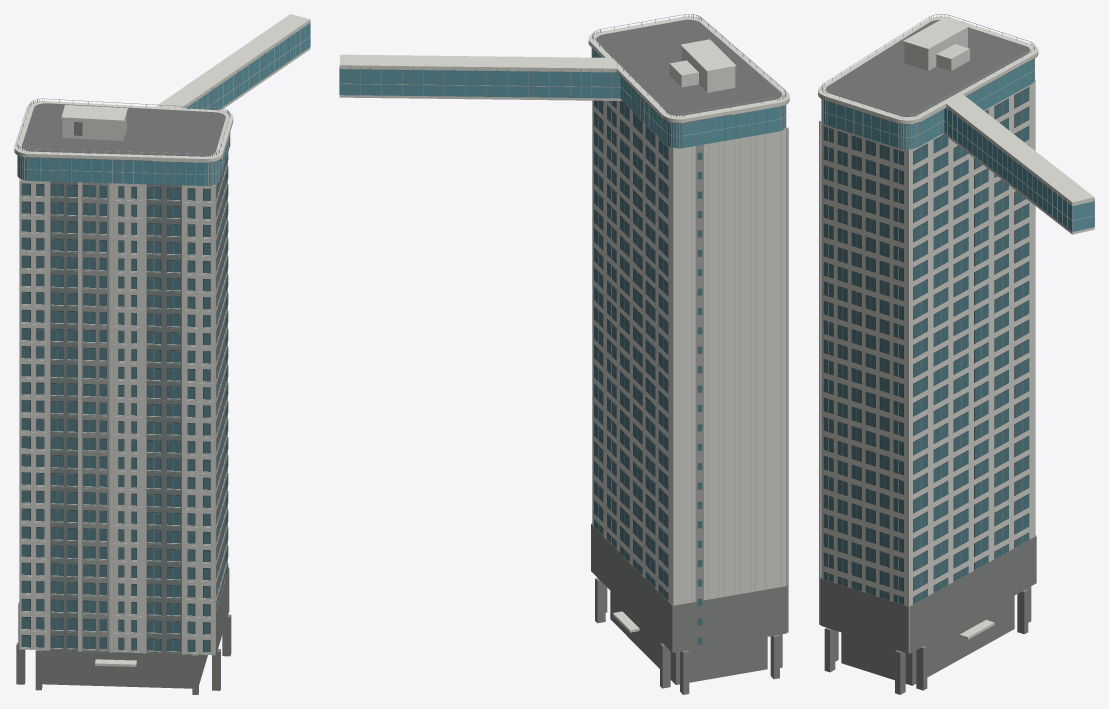
File: bespoke-maple-xi-210.glb
3 renders of one model, left to right at view 1: azimuth 30°, elevation 25°; view 2: azimuth 150°, elevation 25°; view 3: azimuth 270°, elevation 25°, orthographic. The views are drawn at different scales.
Parts seen in each view (by area): view 1: 210_retained_numbered_plan_body, 210_end_wall_slit_windows, 210_individual_face_3_graphite, 210_e1_large_grid_window_reveals, 210_Club_Cloud_glazed_roof_lounge, 210_recessed_stone_pilotis_lobby, 210_end_wall_recess_strips, 210_entrance_canopy_1, 210_inset_service_roof, 210_e1_fine_window_mullions; view 2: 210_retained_numbered_plan_body, 210_end_wall_slit_windows, 210_recessed_stone_pilotis_lobby, 210_Club_Cloud_glazed_roof_lounge, 210_entrance_canopy_1, 210_end_wall_recess_strips, 210_inset_service_roof, 210_e1_fine_window_mullions, 210_e1_large_grid_window_reveals; view 3: 210_retained_numbered_plan_body, 210_end_wall_slit_windows, 210_recessed_stone_pilotis_lobby, 210_e1_large_grid_window_reveals, 210_Club_Cloud_glazed_roof_lounge, 210_entrance_canopy_1, 210_inset_service_roof, 210_e1_fine_window_mullions.
Boxes of the visible parts, left/top/right/bottom form: 210_retained_numbered_plan_body: left=19, top=112, right=227, bottom=655; 210_end_wall_slit_windows: left=22, top=152, right=228, bottom=652; 210_individual_face_3_graphite: left=14, top=122, right=221, bottom=654; 210_e1_large_grid_window_reveals: left=21, top=158, right=227, bottom=652; 210_Club_Cloud_glazed_roof_lounge: left=18, top=23, right=310, bottom=185; 210_recessed_stone_pilotis_lobby: left=16, top=567, right=231, bottom=694; 210_end_wall_recess_strips: left=81, top=182, right=109, bottom=651; 210_entrance_canopy_1: left=14, top=14, right=310, bottom=666; 210_inset_service_roof: left=22, top=103, right=225, bottom=156; 210_e1_fine_window_mullions: left=17, top=21, right=310, bottom=651; 210_retained_numbered_plan_body: left=592, top=47, right=788, bottom=652; 210_end_wall_slit_windows: left=594, top=100, right=702, bottom=644; 210_recessed_stone_pilotis_lobby: left=591, top=523, right=787, bottom=694; 210_Club_Cloud_glazed_roof_lounge: left=340, top=49, right=785, bottom=148; 210_entrance_canopy_1: left=339, top=16, right=789, bottom=632; 210_end_wall_recess_strips: left=692, top=131, right=781, bottom=601; 210_inset_service_roof: left=596, top=19, right=781, bottom=115; 210_e1_fine_window_mullions: left=339, top=14, right=786, bottom=595; 210_e1_large_grid_window_reveals: left=594, top=100, right=668, bottom=600; 210_retained_numbered_plan_body: left=819, top=28, right=1035, bottom=653; 210_end_wall_slit_windows: left=823, top=88, right=1029, bottom=604; 210_recessed_stone_pilotis_lobby: left=820, top=535, right=1036, bottom=694; 210_e1_large_grid_window_reveals: left=823, top=87, right=1029, bottom=604; 210_Club_Cloud_glazed_roof_lounge: left=822, top=59, right=1094, bottom=231; 210_entrance_canopy_1: left=818, top=16, right=1094, bottom=639; 210_inset_service_roof: left=826, top=19, right=1030, bottom=116; 210_e1_fine_window_mullions: left=821, top=14, right=1094, bottom=603.
Size of the model in its own units: 62.56 by 93.88 by 39.35.
